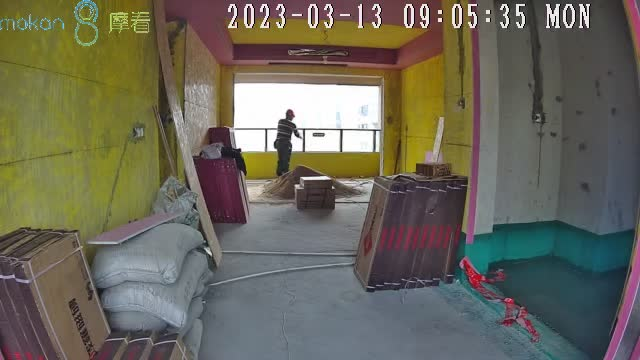people: (274, 110, 302, 181)
window: (234, 84, 381, 154)
